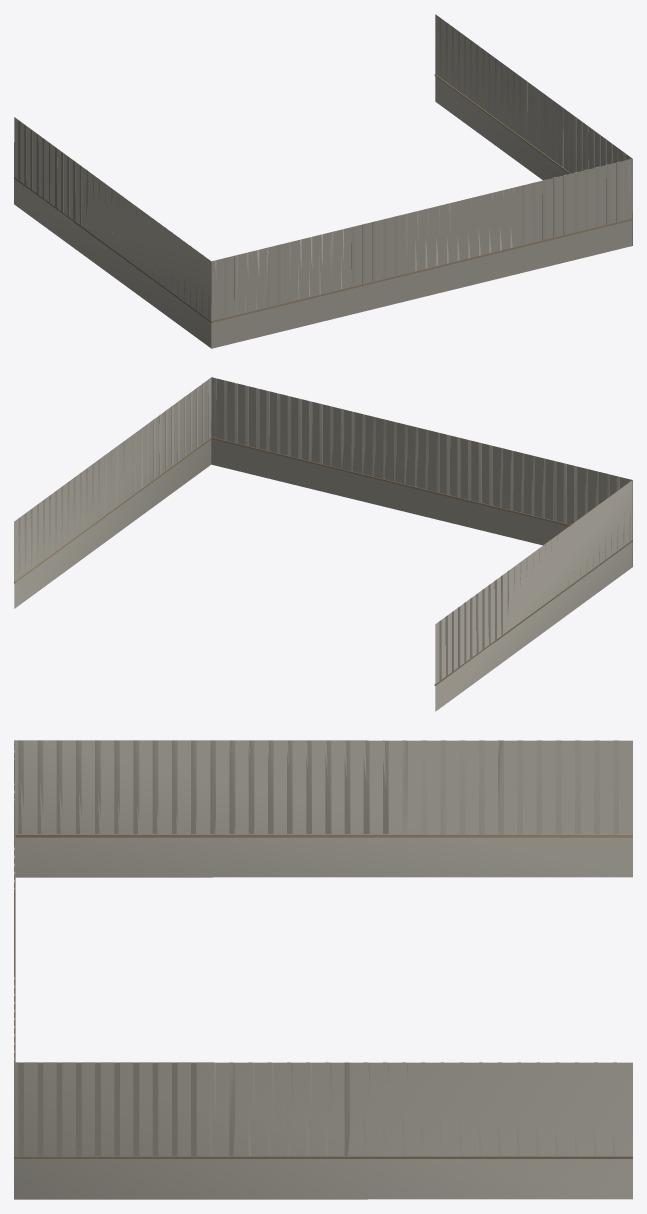
The model's file is home_wallpaper_s3__cream_low.glb.
The picture shows the model from 3 angles, top to bottom: view 1: azimuth 30°, elevation 25°; view 2: azimuth 150°, elevation 25°; view 3: azimuth 270°, elevation 25°; orthographic projection. The views are drawn at different scales.
Bounding box in the file's own units: 15.9 × 3.15 × 12.9.
